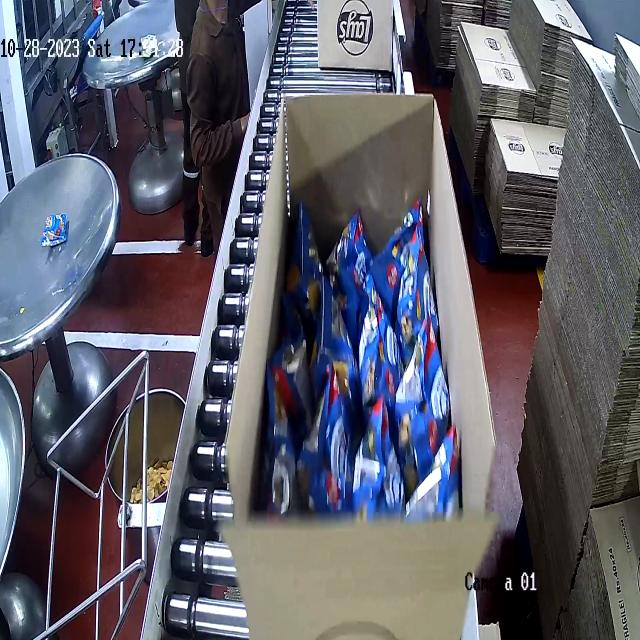PAPRIKA: (279, 200, 468, 512)
